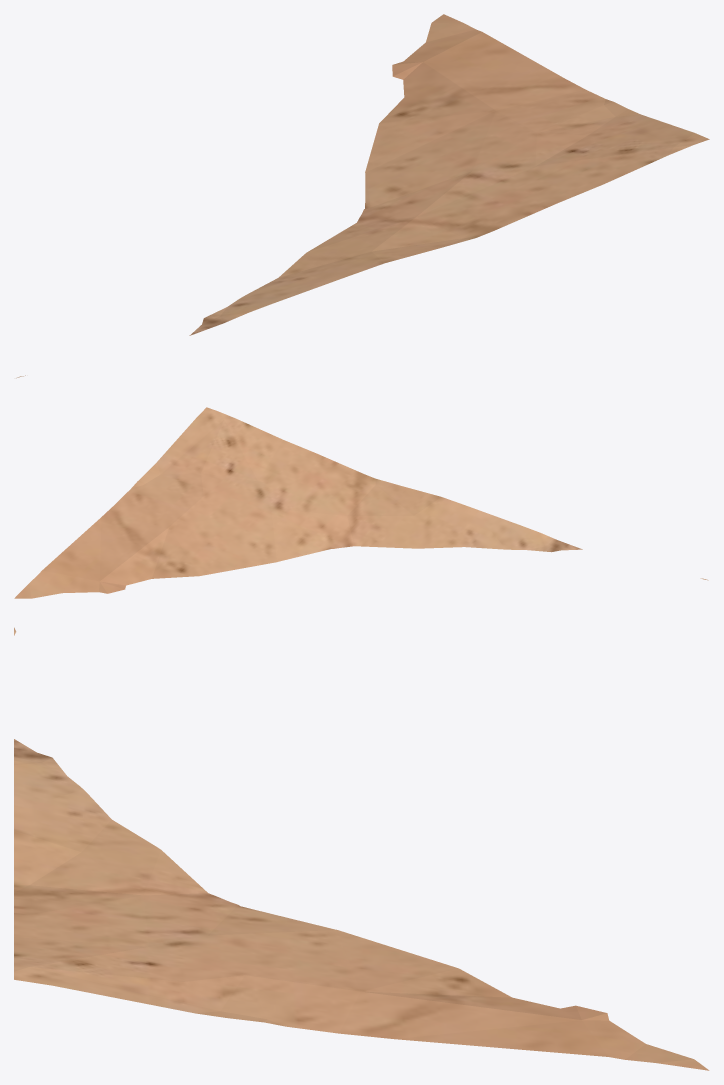
The picture shows the model from 3 angles, top to bottom: view 1: azimuth 30°, elevation 25°; view 2: azimuth 150°, elevation 25°; view 3: azimuth 270°, elevation 25°; orthographic projection. The views are drawn at different scales.
Bounding box in the file's own units: 0.9125 × 0.0873 × 0.6048.
Materials: 1 (1 with a texture image).
